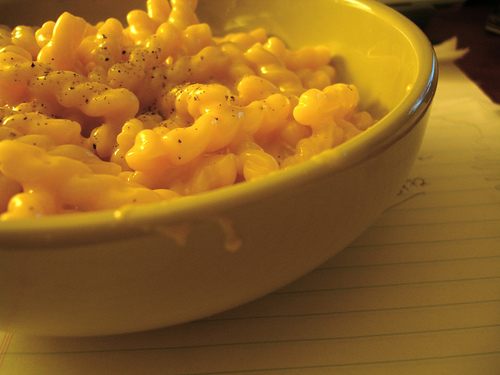macncheese: (1, 1, 402, 252)
